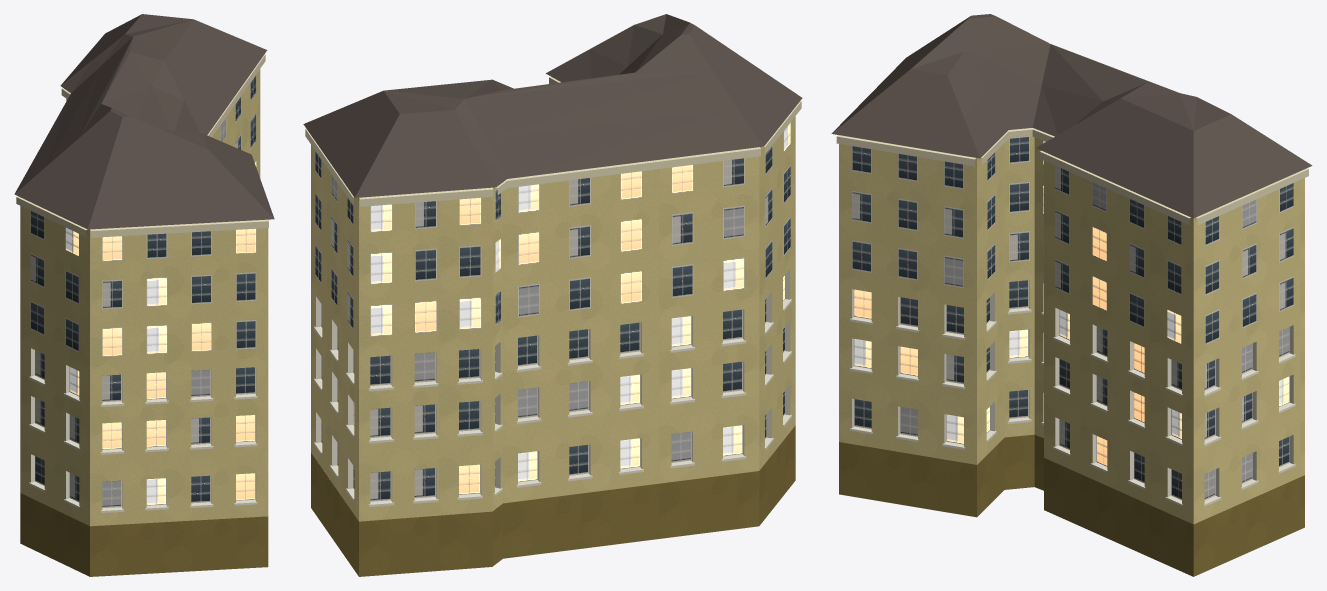
Rendered from z3R2_zyp_yellow.glb.
3 renders of one model, left to right at view 1: azimuth 30°, elevation 25°; view 2: azimuth 150°, elevation 25°; view 3: azimuth 270°, elevation 25°, orthographic. The views are drawn at different scales.
Visible parts, largest first — view 1: z3R2_zyp_yellow; view 2: z3R2_zyp_yellow; view 3: z3R2_zyp_yellow.
Part boxes in pixels (left/top/right/bottom): z3R2_zyp_yellow: left=14, top=14, right=274, bottom=576; z3R2_zyp_yellow: left=303, top=14, right=802, bottom=576; z3R2_zyp_yellow: left=831, top=14, right=1312, bottom=576.
Size of the model in its own units: 20.91 by 25.04 by 24.96.
Materials: 3 (3 with a texture image).
